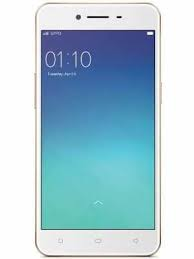oppo: (31, 1, 164, 257)
